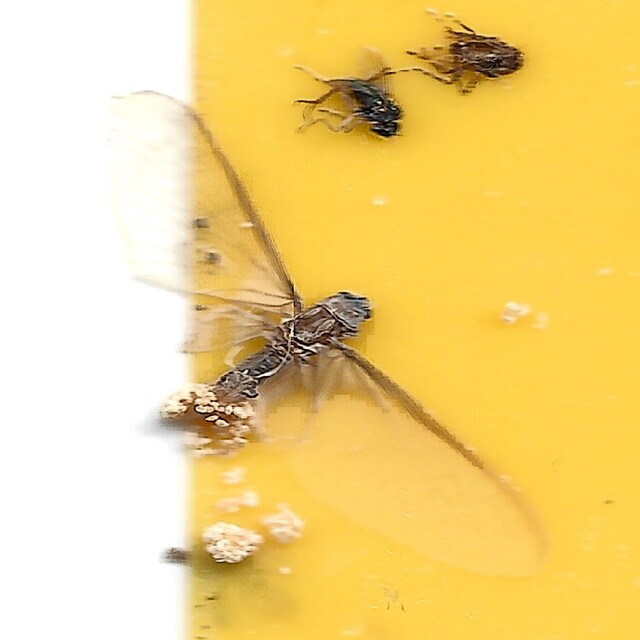Brachycera: (320, 69, 409, 140)
Ephemeroptera: (92, 89, 548, 571)
